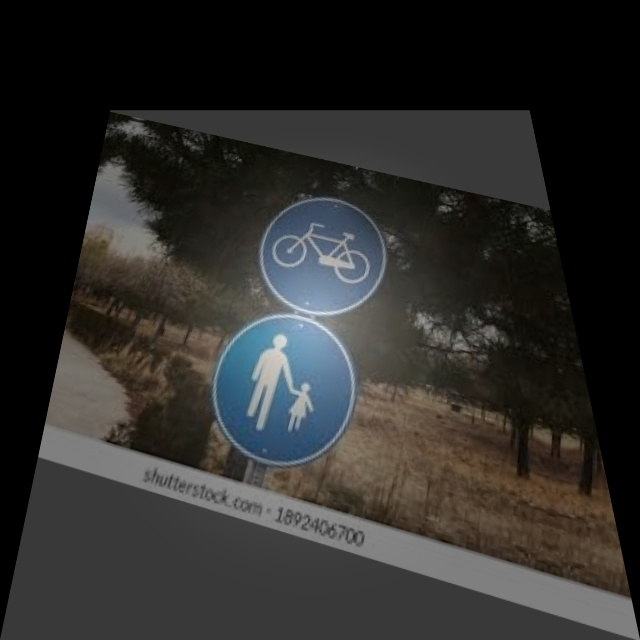Compulsory_Cycle_Track: (241, 185, 405, 327)
